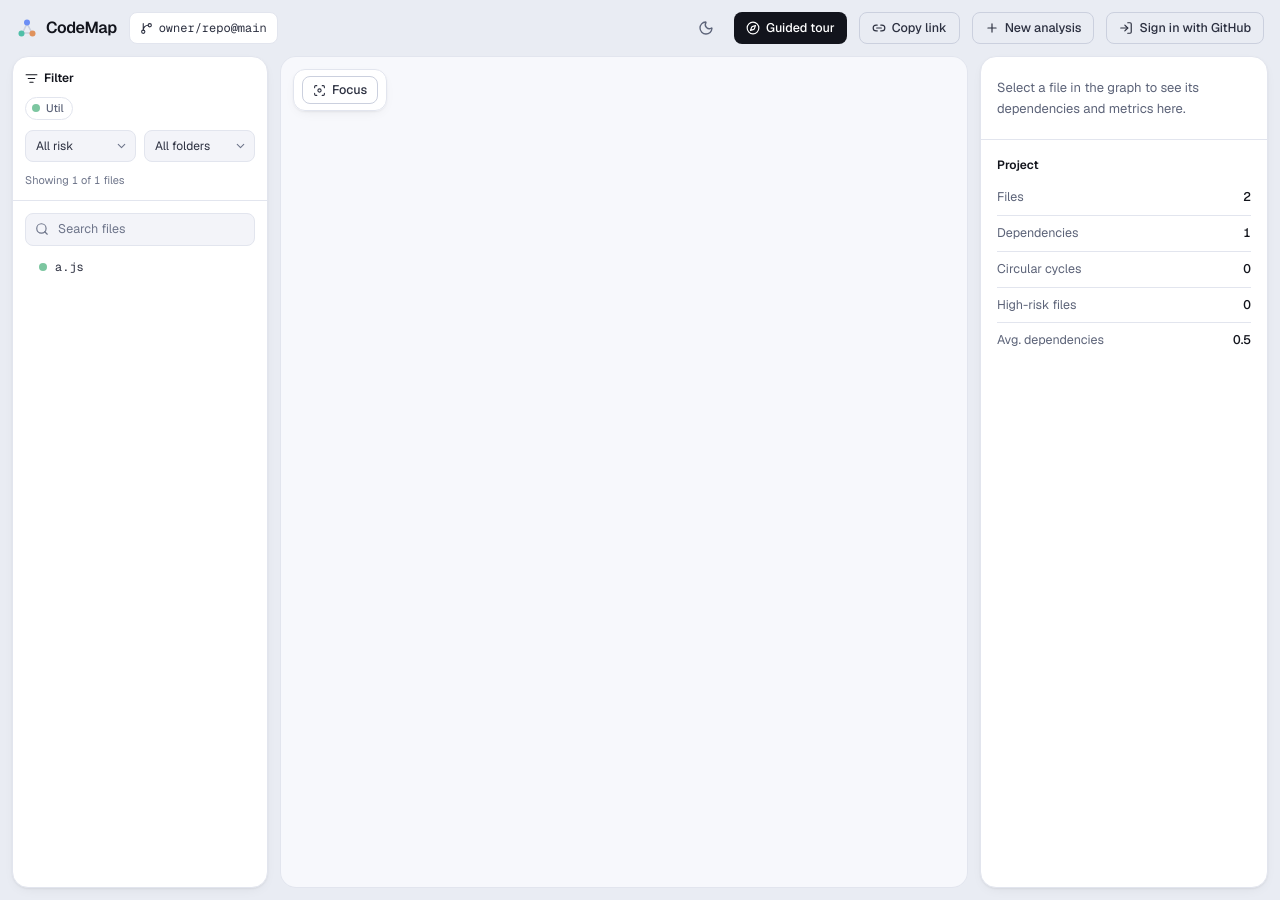
Test: ProjectPage › tells the user when the clipboard is unavailable instead of failing silently
Click the button "Copy link" at (909, 28), box [859,12,960,44]
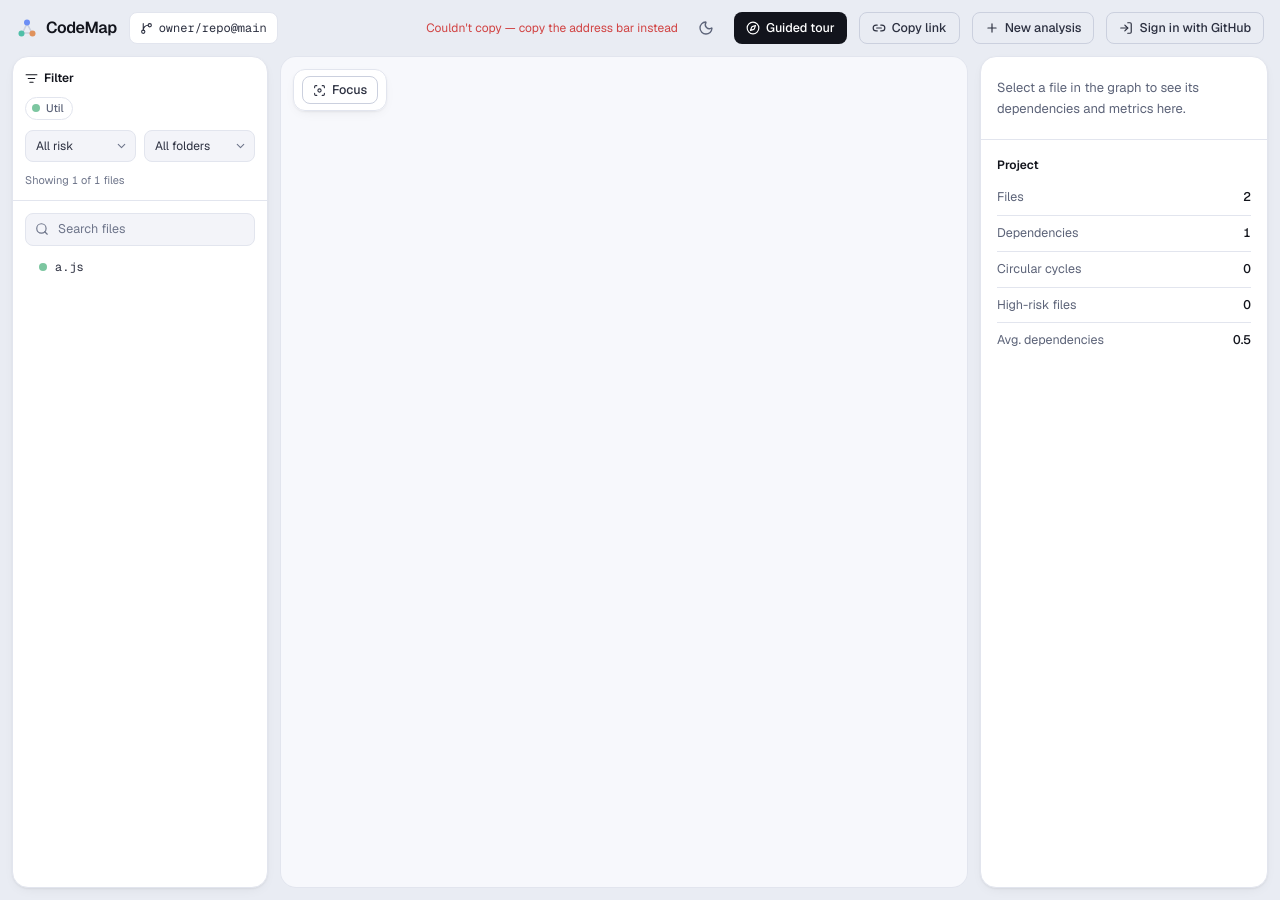
Result: the message shows "Couldn't copy" at [426,20,678,36]
